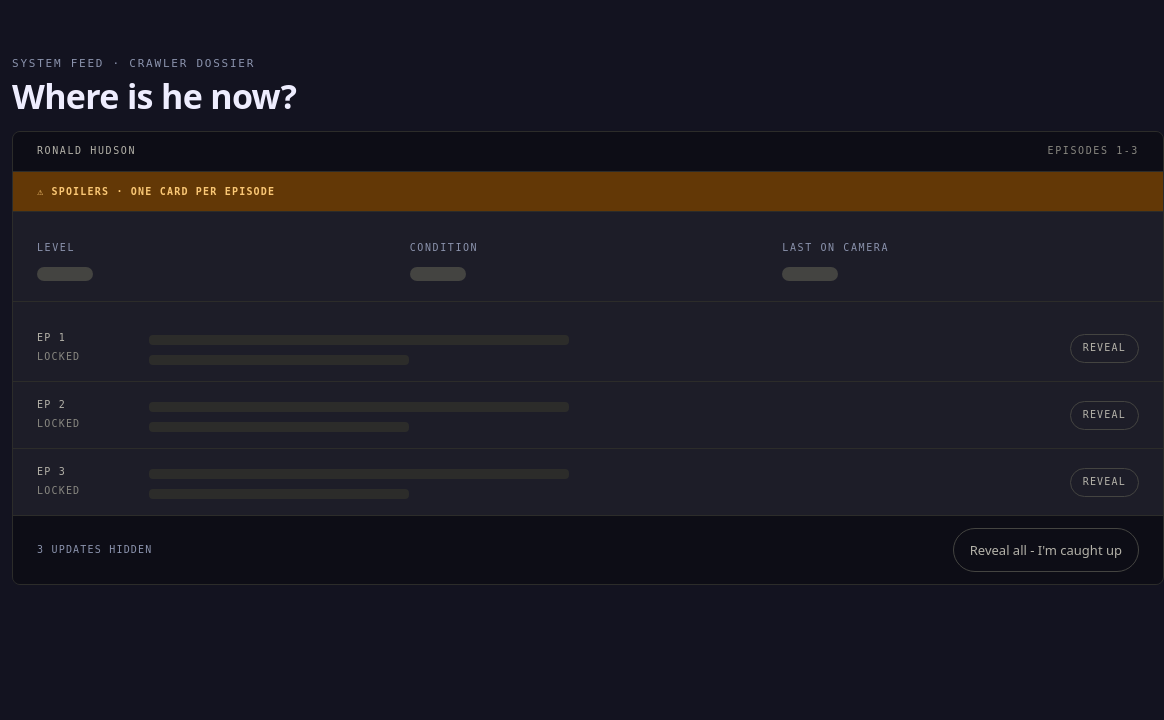
Test: revealing › swaps one row for its card and leaves the others shut
Click the button "EP 2 LOCKED REVEAL" at x=59, y=423, box [13,382,1163,449]
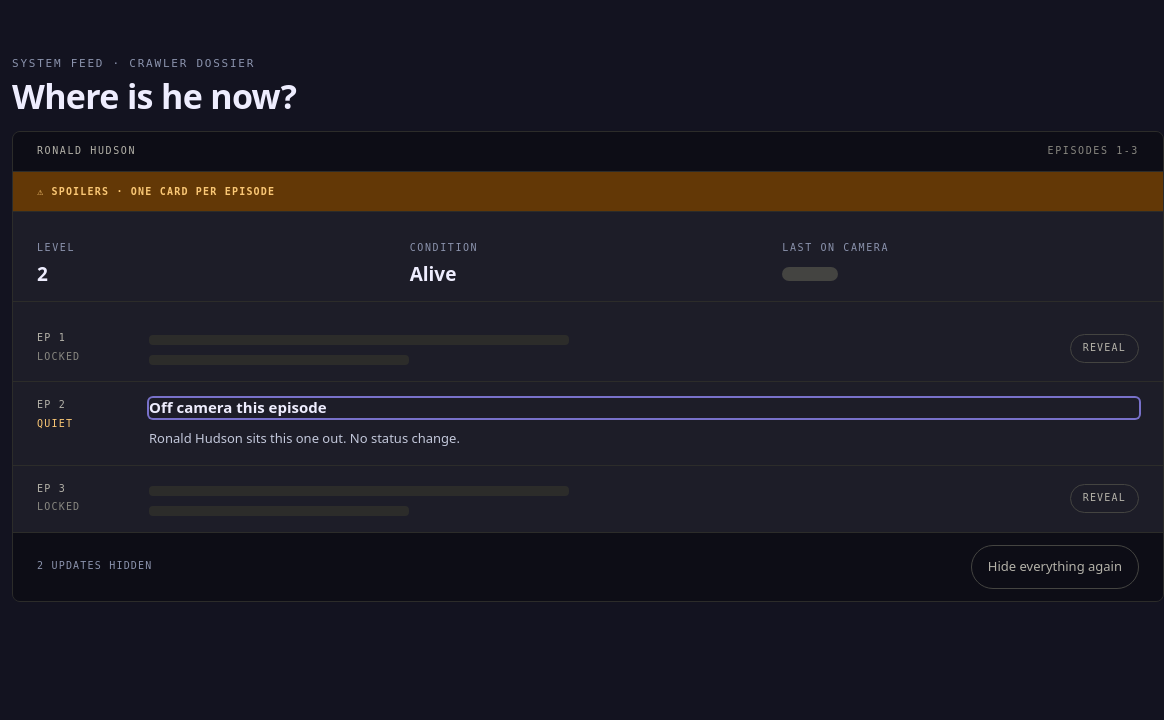
Result: the heading "Off camera this episode" is shown at [149,398,1139,418]
Result: the number of buttons named "Reveal the Episode" is 2 at [13,315,1163,382]; [13,466,1163,533]
